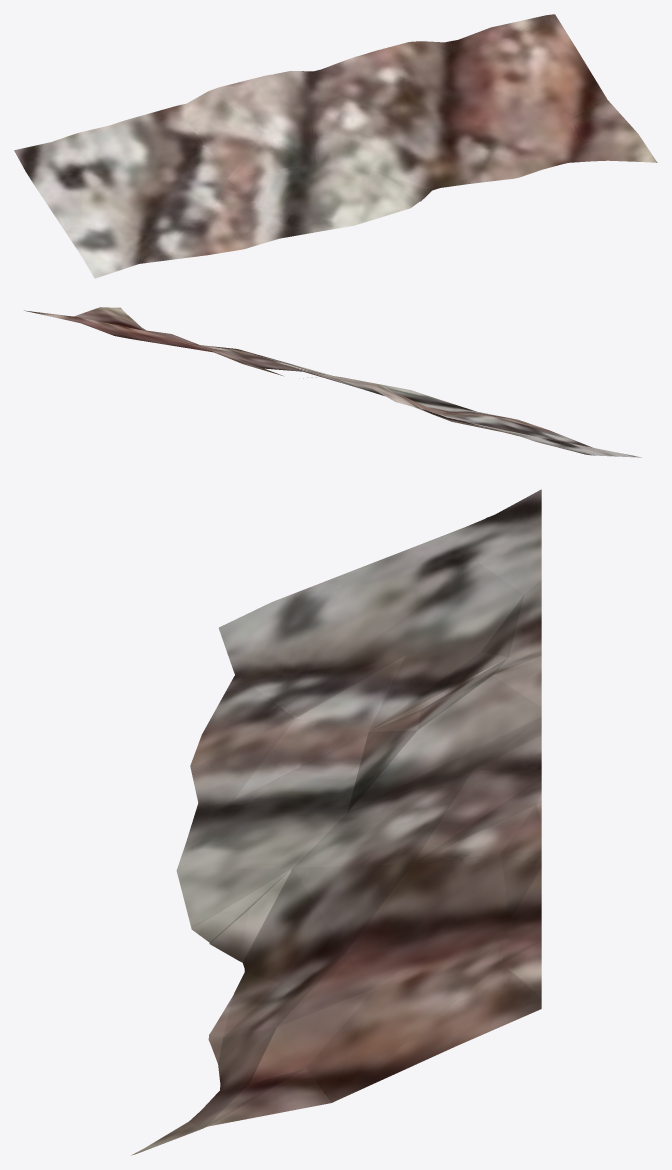
The picture shows the model from 3 angles, top to bottom: view 1: azimuth 30°, elevation 25°; view 2: azimuth 150°, elevation 25°; view 3: azimuth 270°, elevation 25°; orthographic projection. The views are drawn at different scales.
Size of the model in its own units: 0.8374 by 0.1223 by 0.2759.
1 material, 1 textured.
